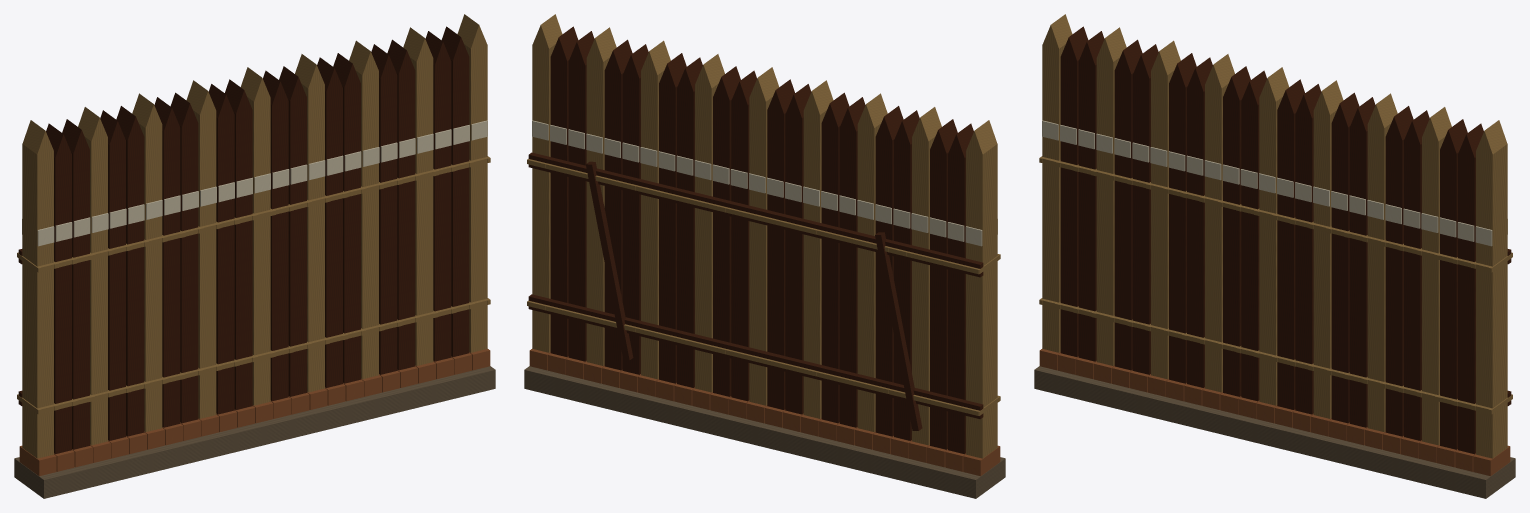
The model's file is Berber_Palisade_Age3_straight_6m.fbx.
The picture shows the model from 3 angles, left to right: view 1: azimuth 30°, elevation 25°; view 2: azimuth 150°, elevation 25°; view 3: azimuth 330°, elevation 25°; orthographic projection.
Parts seen in each view (by area): view 1: palm_split_post.019, palm_split_post.014, palm_split_post.012, palm_split_post.016, palm_split_post.009, palm_split_post.021, earth_seat.002, palm_split_post.018, palm_split_post.015, post_earth_socket.002, neutral_owner_band.002, front_lashing.002 (+1 smaller); view 2: palm_split_post.014, palm_split_post.019, palm_split_post.009, palm_split_post.012, palm_split_post.016, earth_seat.002, palm_split_post.018, palm_split_post.021, palm_split_post.015, continuous_rear_tie.002, post_earth_socket.002, neutral_owner_band.002 (+3 smaller); view 3: palm_split_post.012, palm_split_post.014, palm_split_post.019, palm_split_post.016, palm_split_post.009, palm_split_post.015, earth_seat.002, palm_split_post.018, palm_split_post.021, post_earth_socket.002, neutral_owner_band.002, front_lashing.002 (+1 smaller).
Boxes of the visible parts, left/top/right/bottom form: palm_split_post.019: left=154, top=26, right=469, bottom=427; palm_split_post.014: left=62, top=31, right=451, bottom=449; palm_split_post.012: left=46, top=53, right=360, bottom=454; palm_split_post.016: left=100, top=39, right=415, bottom=440; palm_split_post.009: left=22, top=14, right=487, bottom=458; palm_split_post.021: left=186, top=27, right=433, bottom=418; earth_seat.002: left=14, top=366, right=495, bottom=498; palm_split_post.018: left=132, top=40, right=378, bottom=431; palm_split_post.015: left=78, top=54, right=324, bottom=445; post_earth_socket.002: left=19, top=349, right=490, bottom=476; neutral_owner_band.002: left=22, top=120, right=487, bottom=246; front_lashing.002: left=37, top=157, right=489, bottom=413; palm_split_post.014: left=568, top=31, right=957, bottom=449; palm_split_post.019: left=550, top=26, right=865, bottom=427; palm_split_post.009: left=532, top=14, right=997, bottom=458; palm_split_post.012: left=659, top=53, right=973, bottom=454; palm_split_post.016: left=604, top=39, right=919, bottom=440; earth_seat.002: left=524, top=366, right=1005, bottom=498; palm_split_post.018: left=641, top=40, right=887, bottom=431; palm_split_post.021: left=586, top=27, right=833, bottom=418; palm_split_post.015: left=695, top=54, right=941, bottom=445; continuous_rear_tie.002: left=528, top=152, right=983, bottom=419; post_earth_socket.002: left=529, top=349, right=1000, bottom=476; neutral_owner_band.002: left=532, top=120, right=997, bottom=246; palm_split_post.012: left=1060, top=26, right=1375, bottom=427; palm_split_post.014: left=1078, top=31, right=1467, bottom=449; palm_split_post.019: left=1169, top=53, right=1483, bottom=454; palm_split_post.016: left=1114, top=39, right=1429, bottom=440; palm_split_post.009: left=1042, top=14, right=1507, bottom=458; palm_split_post.015: left=1096, top=27, right=1343, bottom=418; earth_seat.002: left=1034, top=366, right=1515, bottom=498; palm_split_post.018: left=1151, top=40, right=1397, bottom=431; palm_split_post.021: left=1205, top=54, right=1451, bottom=445; post_earth_socket.002: left=1039, top=349, right=1510, bottom=476; neutral_owner_band.002: left=1042, top=120, right=1507, bottom=246; front_lashing.002: left=1042, top=157, right=1492, bottom=413.
Size of the model in its own units: 601 by 458 by 68.29.
Materials: 5 (5 with a texture image).
